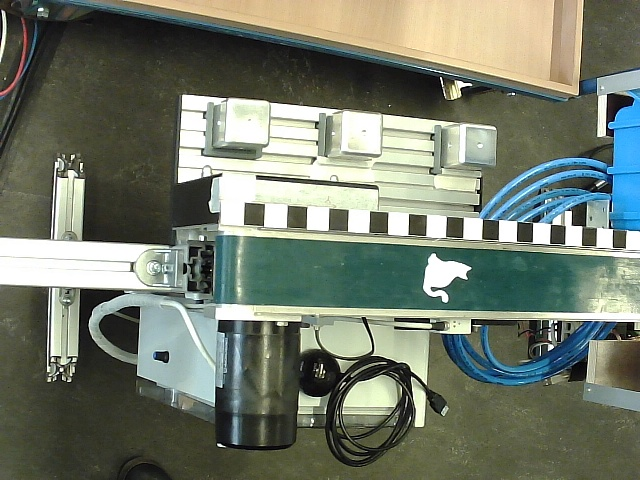cat: (422, 252, 472, 304)
